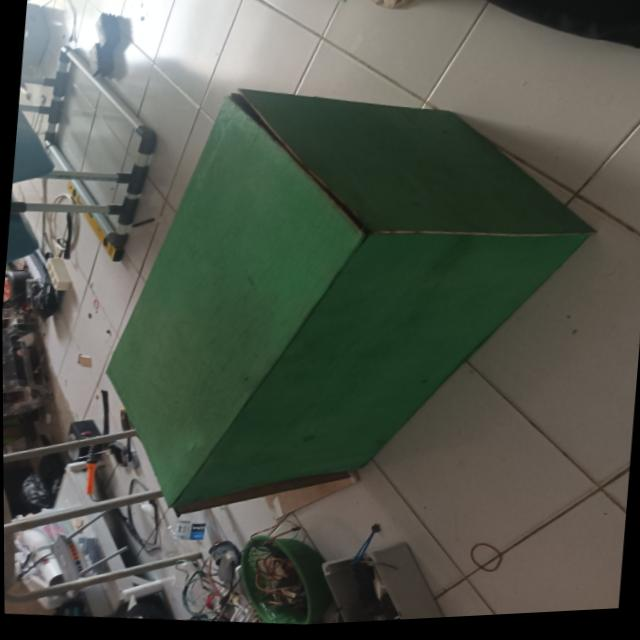green_box: (79, 50, 606, 572)
